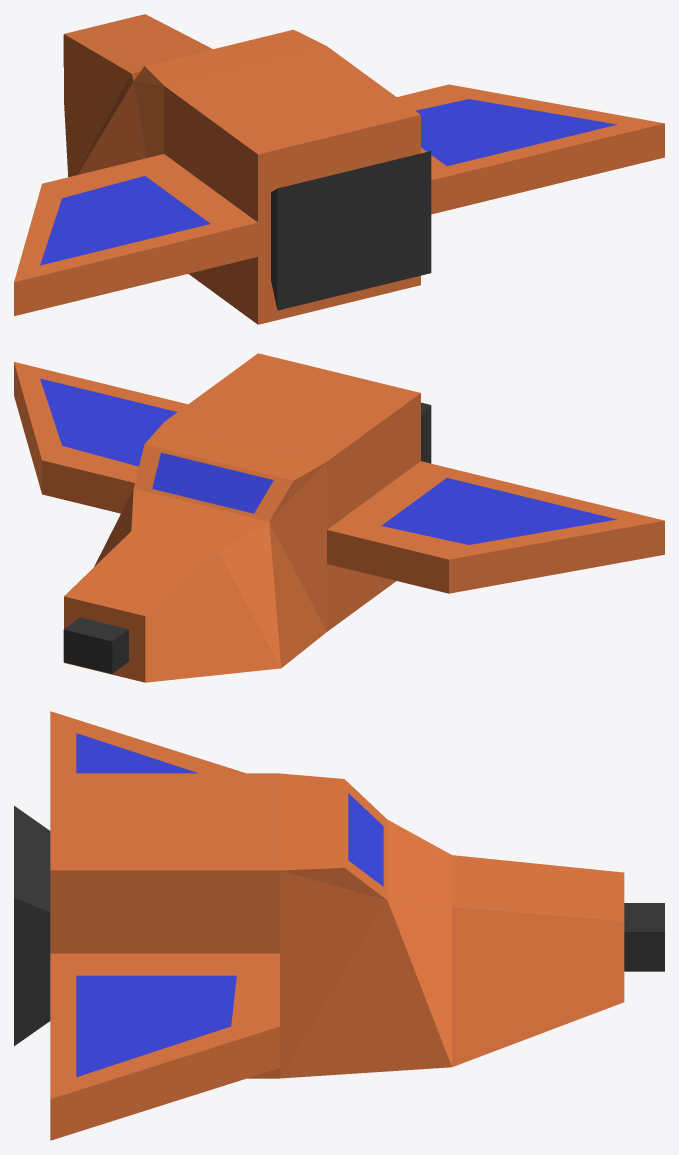
File: enemy-vessel-3.fbx
The picture shows the model from 3 angles, top to bottom: view 1: azimuth 30°, elevation 25°; view 2: azimuth 150°, elevation 25°; view 3: azimuth 270°, elevation 25°; orthographic projection. The views are drawn at different scales.
Visible parts, largest first — view 1: enemy-vessel3; view 2: enemy-vessel3; view 3: enemy-vessel3.
Boxes of the visible parts, bbox=[...] form: enemy-vessel3: bbox=[14, 14, 664, 324]; enemy-vessel3: bbox=[14, 353, 664, 682]; enemy-vessel3: bbox=[14, 711, 664, 1140].
Size of the model in its own units: 800 by 200 by 567.
